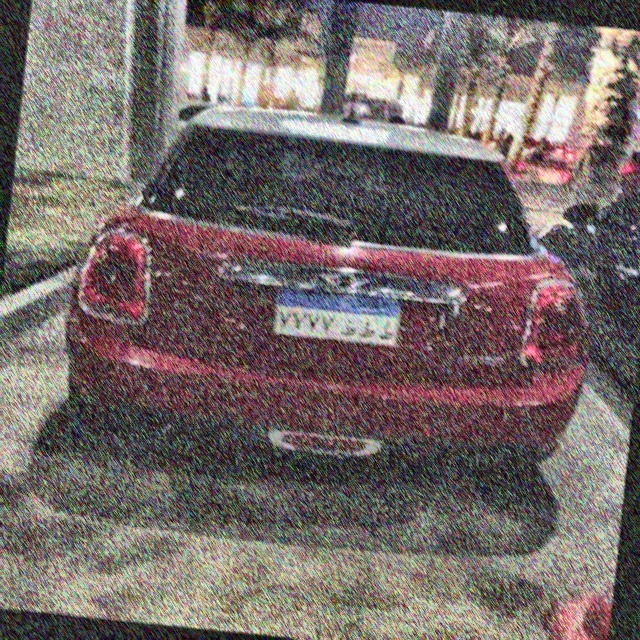License Plate: (269, 284, 404, 349)
